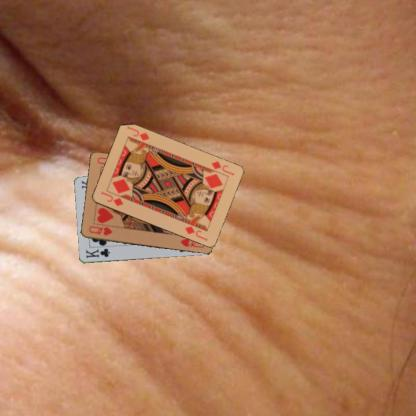Jd: (209, 158, 235, 177), (98, 189, 124, 207)
Kc: (83, 246, 111, 260)
Qh: (86, 223, 113, 237)
